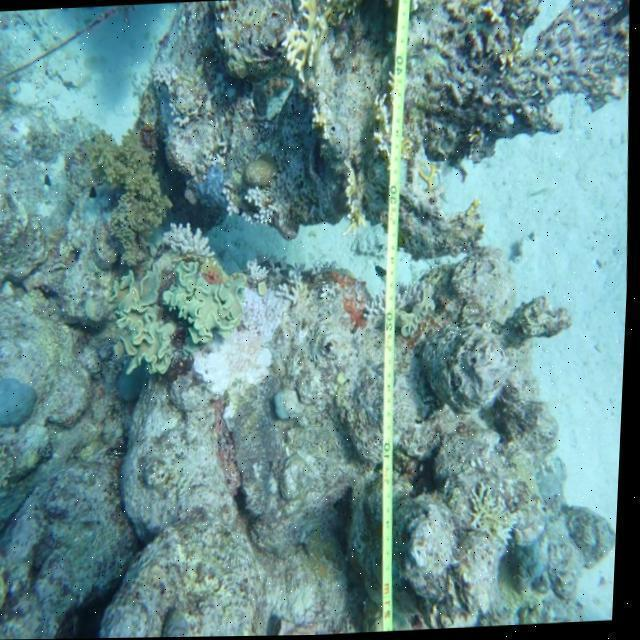Bleached Coral: (193, 258, 305, 424), (209, 174, 285, 239), (154, 210, 217, 269)
